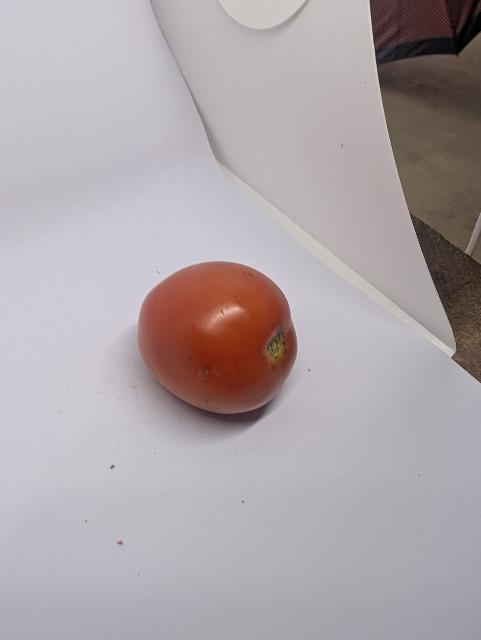red: (136, 258, 301, 415)
